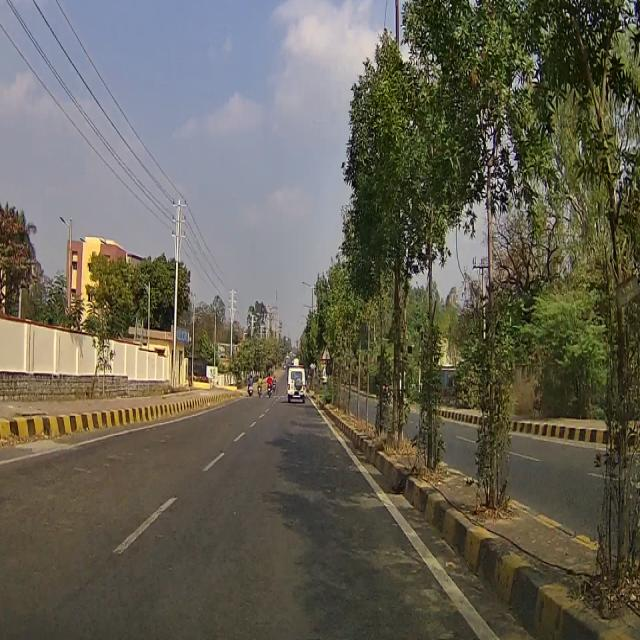gap-in-median: (322, 346, 331, 361)
